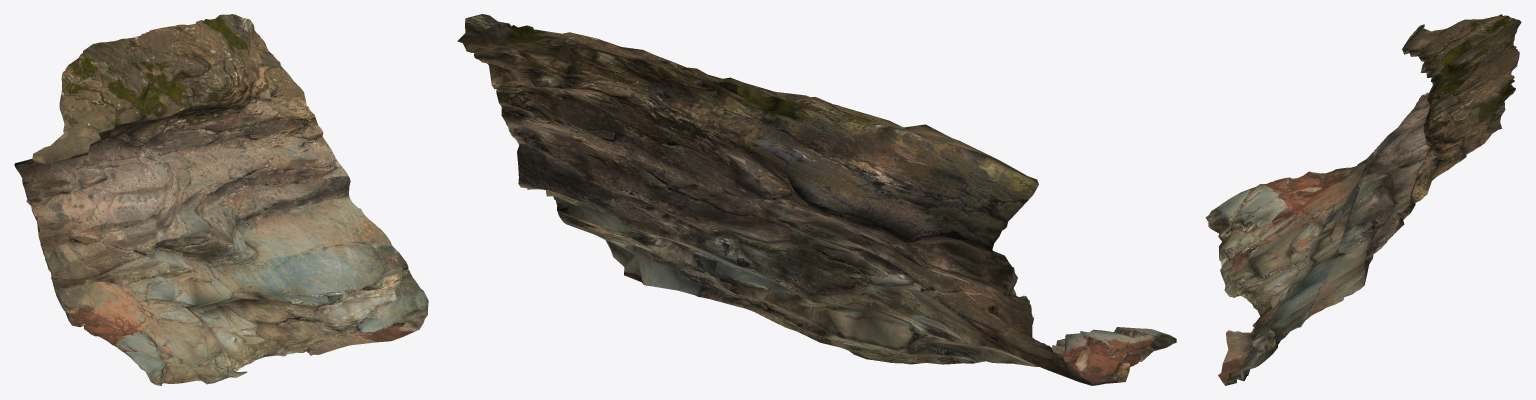
File: roca_pared_01.glb
3 renders of one model, left to right at view 1: azimuth 30°, elevation 25°; view 2: azimuth 150°, elevation 25°; view 3: azimuth 270°, elevation 25°, orthographic. The views are drawn at different scales.
Visible parts, largest first — view 1: roca_pared_01; view 2: roca_pared_01; view 3: roca_pared_01.
Boxes of the visible parts, bbox=[...] form: roca_pared_01: bbox=[14, 14, 428, 385]; roca_pared_01: bbox=[457, 14, 1176, 385]; roca_pared_01: bbox=[1205, 14, 1521, 385].
Size of the model in its own units: 4.4 by 3.17 by 3.4.
1 material, 1 textured.
